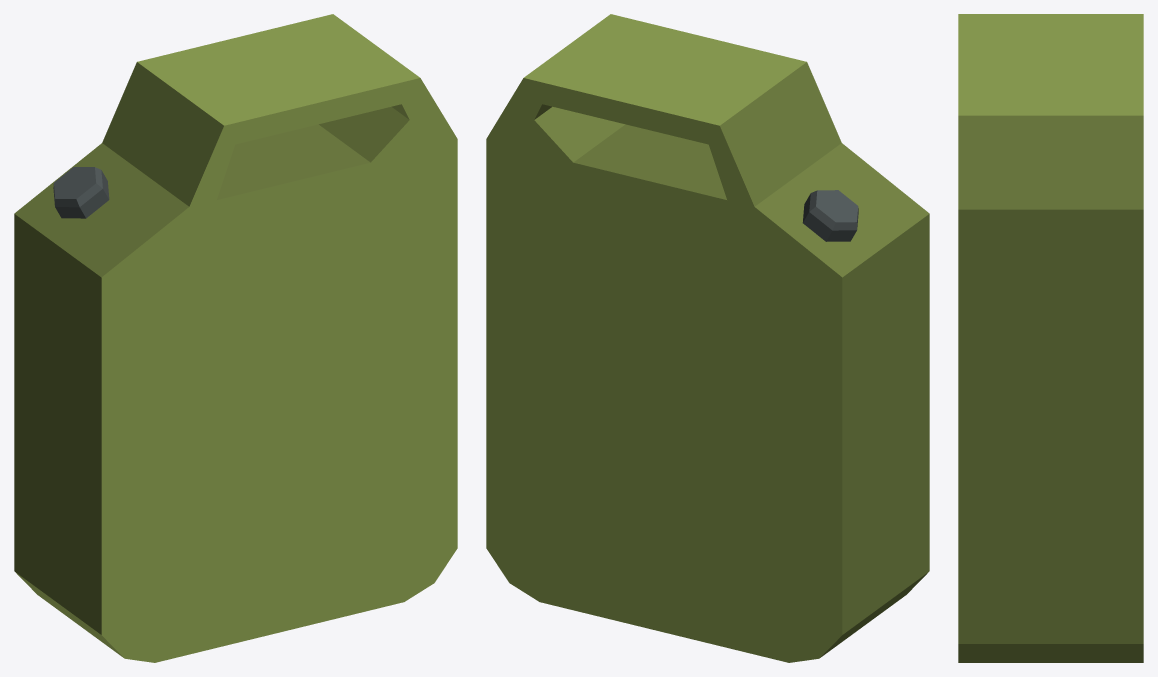
File: Fuel.FBX
3 renders of one model, left to right at view 1: azimuth 30°, elevation 25°; view 2: azimuth 150°, elevation 25°; view 3: azimuth 270°, elevation 25°, orthographic. The views are drawn at different scales.
Parts seen in each view (by area): view 1: fuel; view 2: fuel; view 3: fuel.
Part boxes in pixels (left/top/right/bottom): fuel: left=14, top=14, right=457, bottom=662; fuel: left=486, top=14, right=929, bottom=662; fuel: left=958, top=14, right=1143, bottom=662.
Size of the model in its own units: 0.3684 by 0.5141 by 0.1564.
Materials: 1 (1 with a texture image).
